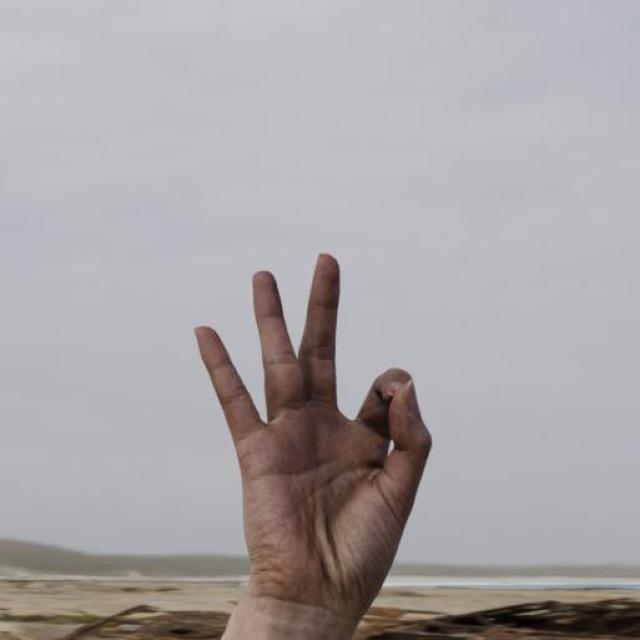F: (190, 248, 436, 618)
